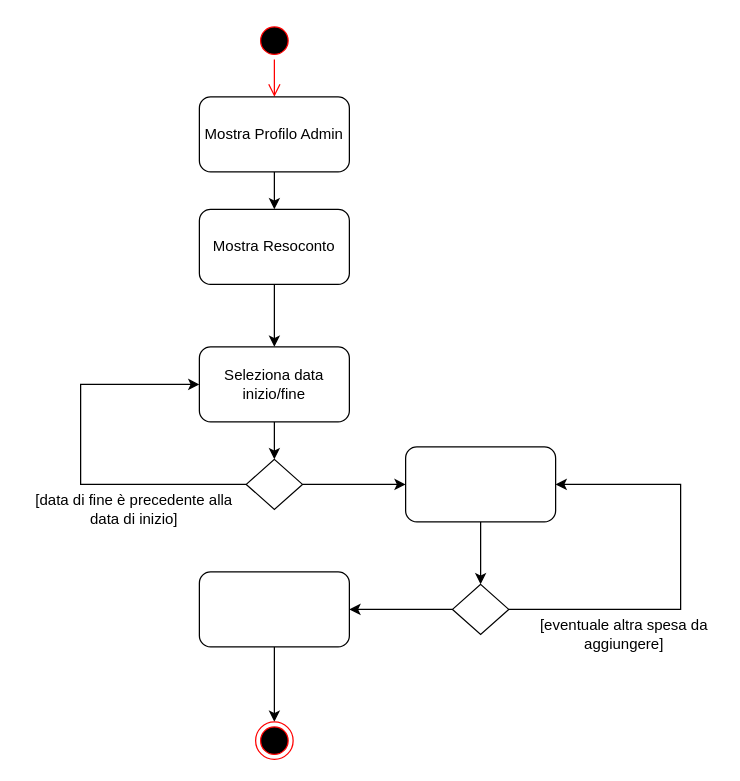
This 740x781 diagram has some shape labels left out. The centre of each missing label's shape, as x and y in pixels:
"Aggiungi spese aggiuntive" goes at (480,484).
"Calcola Resoconto" goes at (273,609).
